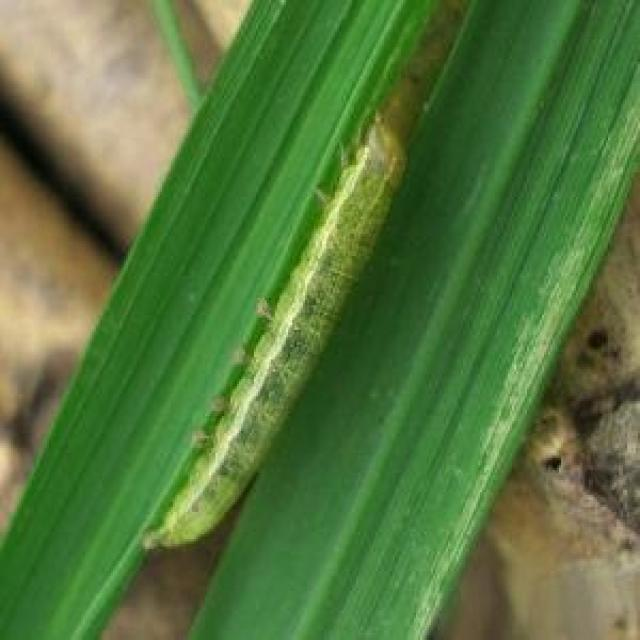army worm: (133, 110, 419, 558)
